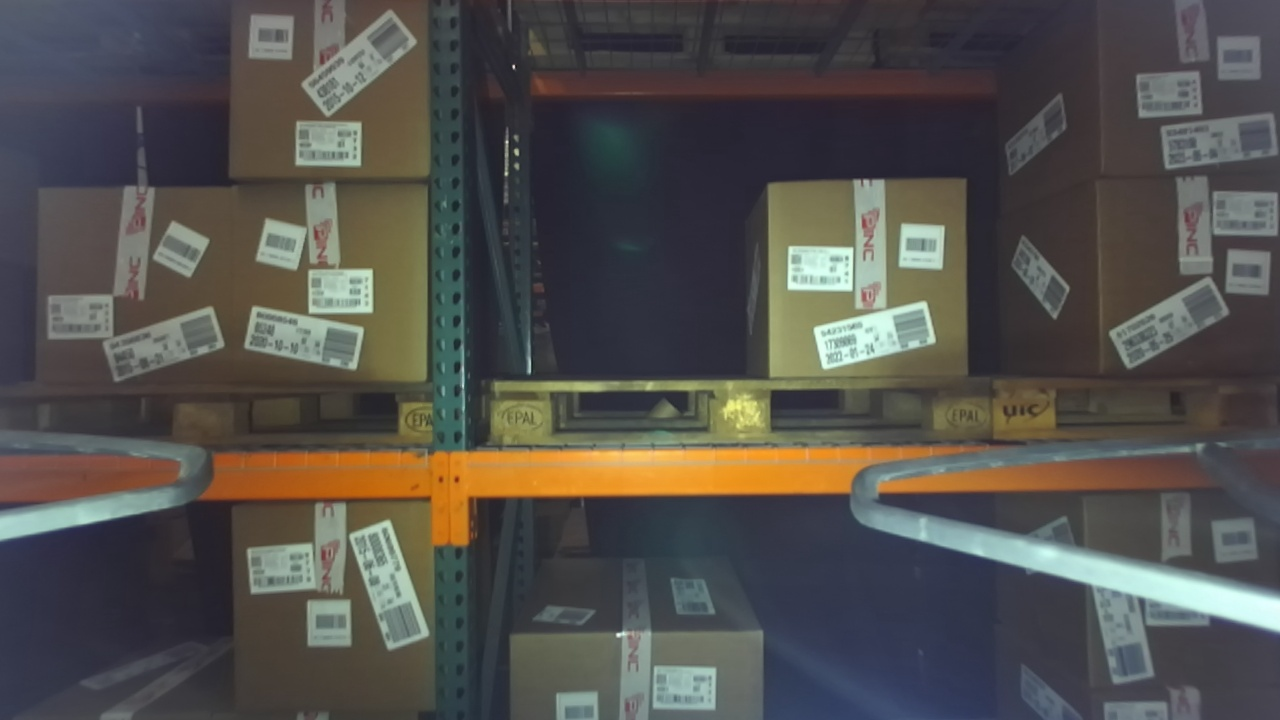box: (726, 153, 971, 427), (216, 157, 453, 419), (214, 484, 477, 720), (24, 176, 261, 404), (203, 2, 442, 205), (1075, 161, 1280, 396), (1058, 1, 1280, 188)
